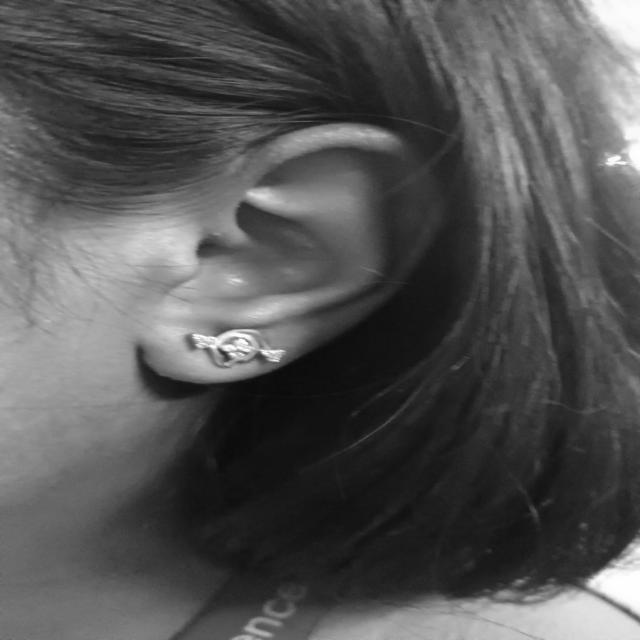ear: (139, 124, 439, 384), (167, 270, 172, 272)
